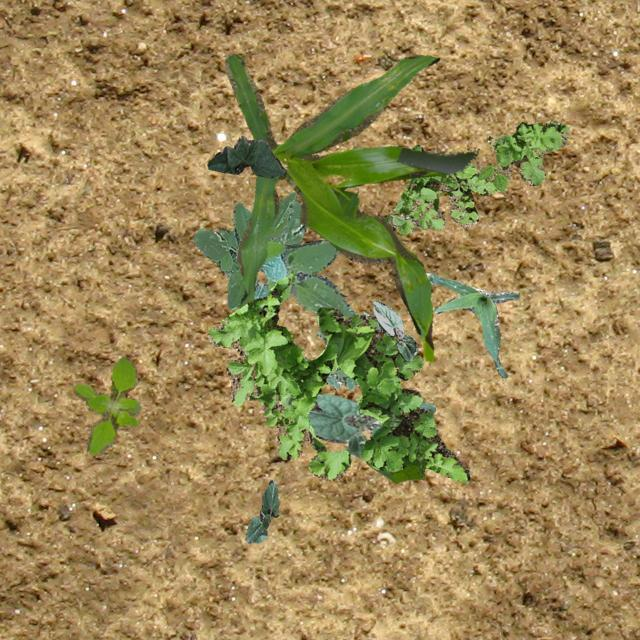crop: (224, 52, 476, 360), (192, 192, 296, 308), (424, 272, 518, 378), (306, 392, 434, 457), (207, 134, 284, 177), (372, 300, 416, 360), (244, 479, 278, 542)
weed: (206, 273, 470, 482), (348, 120, 570, 262), (194, 198, 354, 318), (74, 356, 138, 454), (302, 312, 380, 388), (374, 463, 424, 482)
